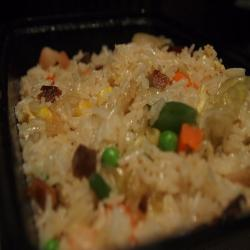rice: (16, 40, 247, 221)
